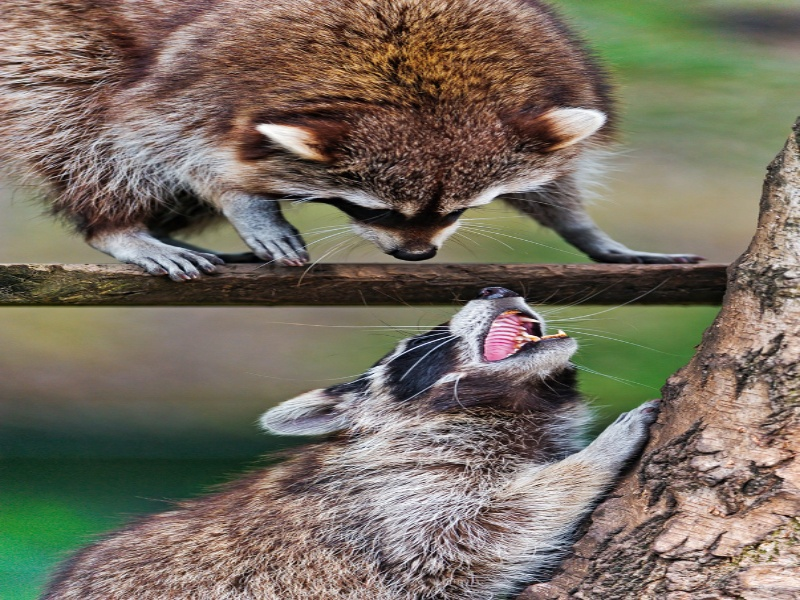raccoon: (30, 284, 664, 594), (5, 1, 706, 281)
